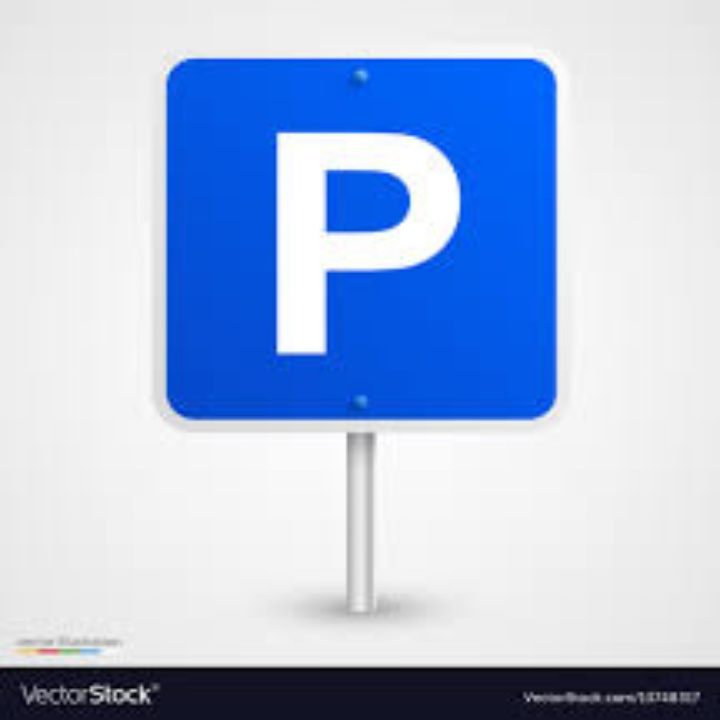parking: (270, 128, 466, 363)
